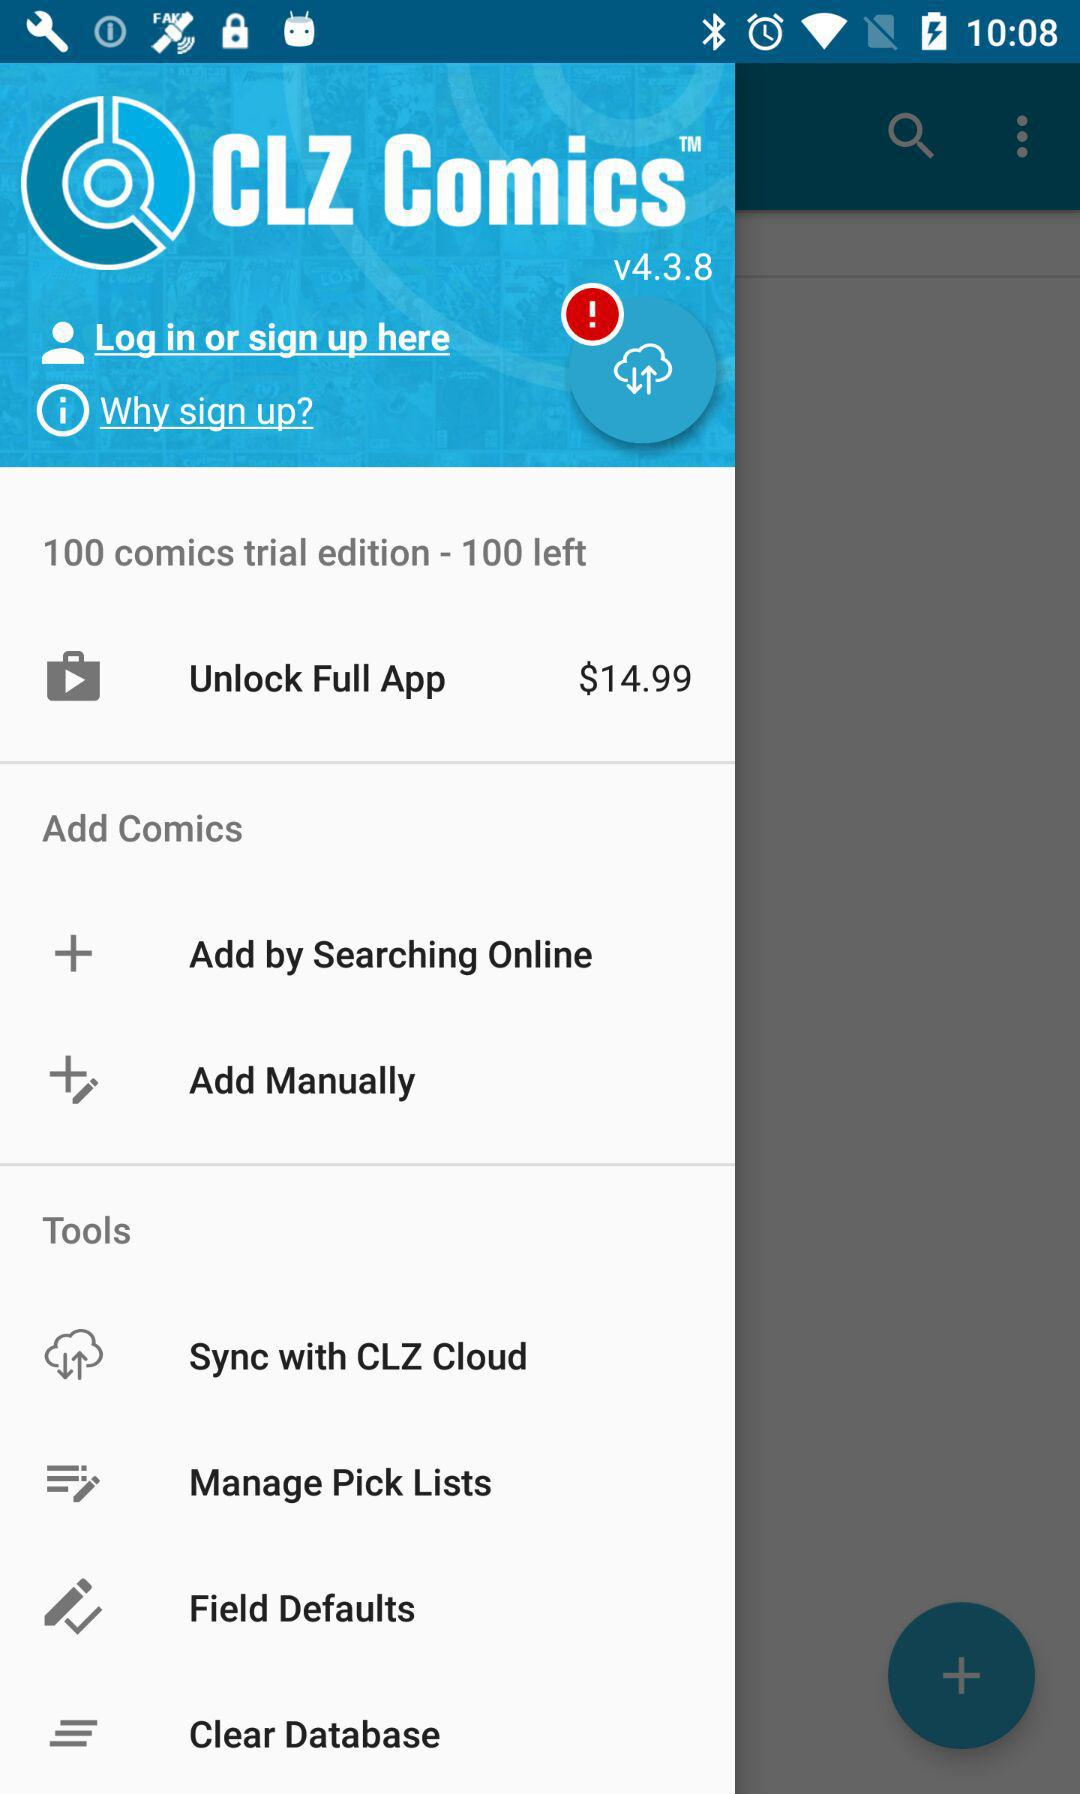Drawer: (1, 63, 735, 1794)
Icon: (887, 1603, 1035, 1750), (560, 283, 625, 349), (44, 1577, 104, 1636), (44, 1328, 105, 1381), (612, 343, 673, 395), (37, 384, 91, 438), (47, 651, 102, 702), (49, 1055, 101, 1105), (47, 1463, 102, 1504), (889, 113, 935, 161), (42, 322, 86, 366), (55, 934, 95, 974), (49, 1718, 100, 1748), (1016, 115, 1029, 161)
Image: (20, 95, 196, 270)
Text: (211, 133, 703, 229), (44, 537, 589, 570), (190, 937, 594, 976), (94, 322, 452, 360), (190, 1340, 527, 1379), (190, 1466, 492, 1504), (190, 661, 448, 701), (190, 1064, 416, 1105), (100, 395, 315, 434), (190, 1718, 442, 1750), (191, 1592, 416, 1624), (42, 812, 243, 844), (579, 660, 692, 698), (612, 252, 714, 282), (42, 1215, 132, 1246)
UpperTaskBar: (1, 1, 1080, 64)
